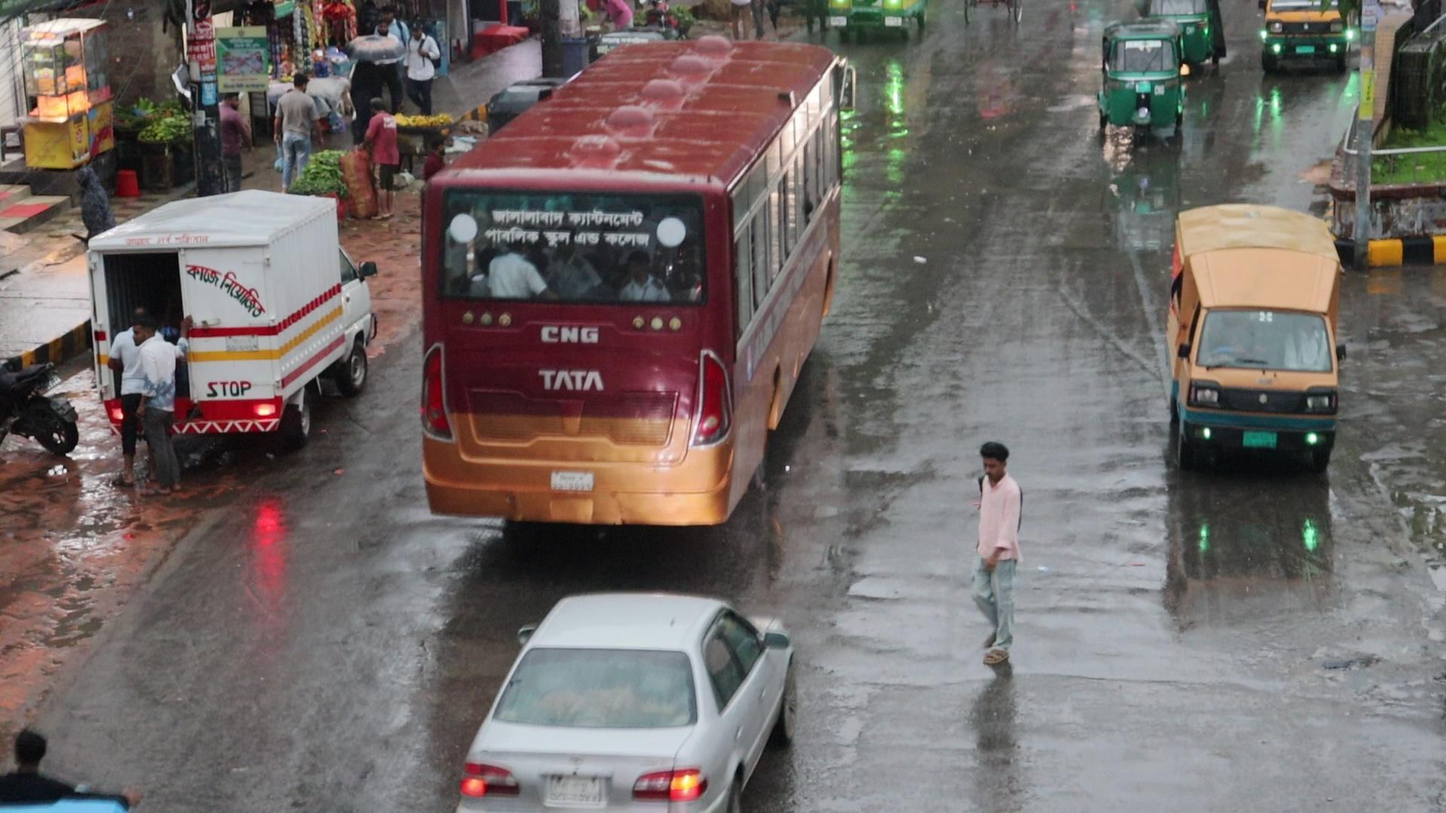Bus: (416, 44, 859, 539)
Car: (447, 565, 806, 813)
Truck: (1161, 197, 1347, 486)
